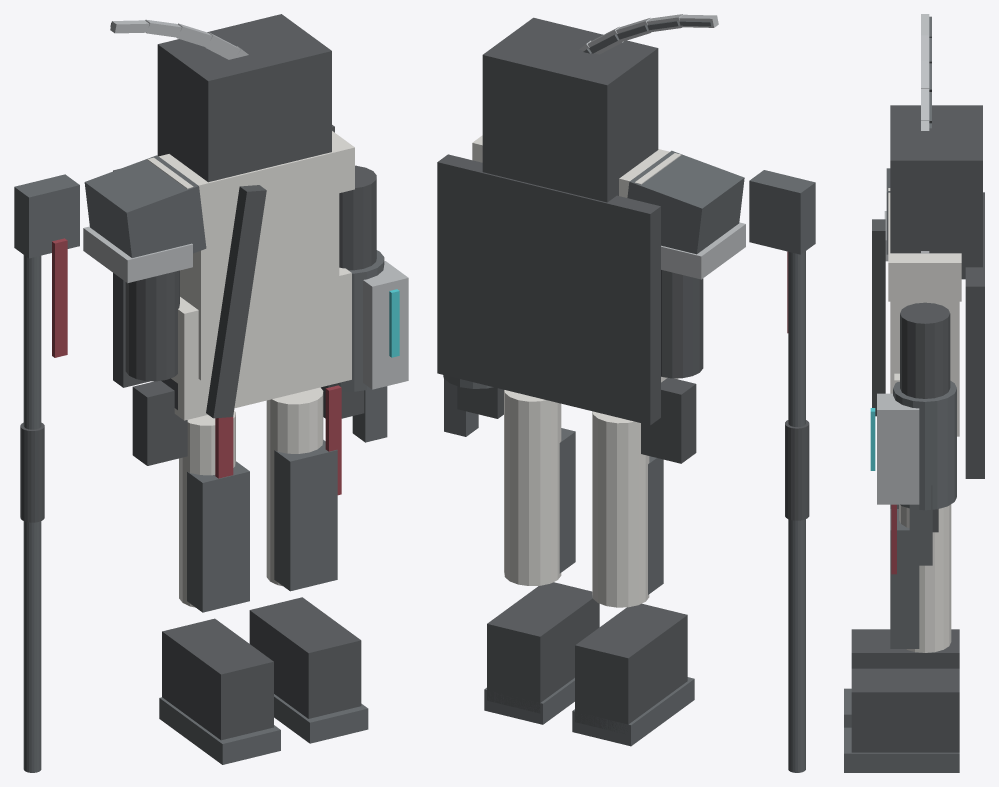
The model's file is ain_outfit_09_Chunseol_v01.glb.
3 views of the same model, side by side, from view 1: azimuth 30°, elevation 25°; view 2: azimuth 150°, elevation 25°; view 3: azimuth 270°, elevation 25° (orthographic). The views are drawn at different scales.
Visible parts, largest first — view 1: hood_shell, torso_shell, boot_L, boot_R, left_shoulder_plate, shin_plate_R, shin_plate_L, short_jacket, scythe_shaft_8, shoulder_yoke, asym_harness_9, sleeve_L (+18 smaller); view 2: back_mantle, hood_shell, boot_L, leg_base_R, leg_base_L, boot_R, scythe_shaft_8, left_shoulder_plate, scythe_head_base_8, sleeve_L, pouch_L, boot_sole_L (+8 smaller); view 3: hood_shell, boot_R, sleeve_R, right_gauntlet, right_gauntlet_spine, back_mantle, leg_base_R, shoulder_yoke, shin_plate_R, boot_L, boot_sole_R, asym_harness_9 (+7 smaller).
Boxes of the visible parts, x1,y1,x2,y2 form: hood_shell: (157,14,331,182); torso_shell: (180,193,339,380); boot_L: (162,618,273,740); boot_R: (249,597,361,718); left_shoulder_plate: (84,155,206,257); shin_plate_R: (274,440,337,591); shin_plate_L: (187,461,249,612); short_jacket: (171,267,351,420); scythe_shaft_8: (23,255,41,772); shoulder_yoke: (147,131,354,226); asym_harness_9: (206,185,266,418); sleeve_L: (125,270,179,381); back_mantle: (437,154,660,425); hood_shell: (482,17,658,202); boot_L: (575,603,687,733); leg_base_R: (504,390,561,585); leg_base_L: (592,411,649,607); boot_R: (487,582,599,713); scythe_shaft_8: (788,251,805,772); left_shoulder_plate: (627,150,744,254); scythe_head_base_8: (749,170,815,254); sleeve_L: (661,270,703,378); pouch_L: (641,378,696,463); boot_sole_L: (572,677,694,746); hood_shell: (890,105,982,279); boot_R: (851,668,959,752); sleeve_R: (900,302,950,398); right_gauntlet: (893,380,956,510); right_gauntlet_spine: (877,393,919,504); back_mantle: (965,192,984,478); leg_base_R: (899,504,951,652); shoulder_yoke: (888,188,961,301); shin_plate_R: (890,509,919,648); boot_L: (851,629,959,668); boot_sole_R: (844,727,959,772); asym_harness_9: (872,219,885,416).
Size of the model in its own units: 0.99 by 1.9 by 0.365.
